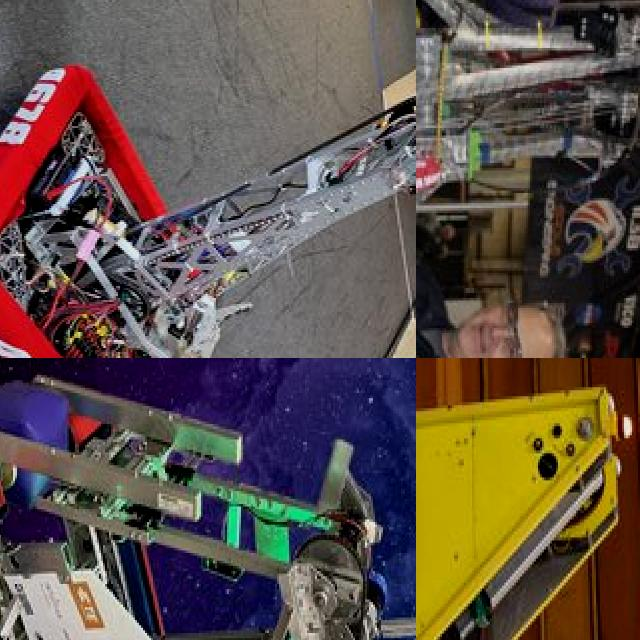FRC-Robots: (0, 2, 416, 358), (0, 358, 416, 640), (416, 0, 640, 358), (416, 358, 640, 640)
